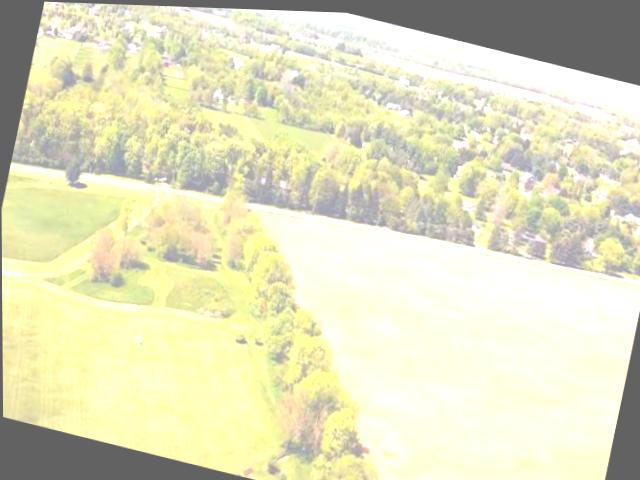iha: (169, 5, 391, 34)
